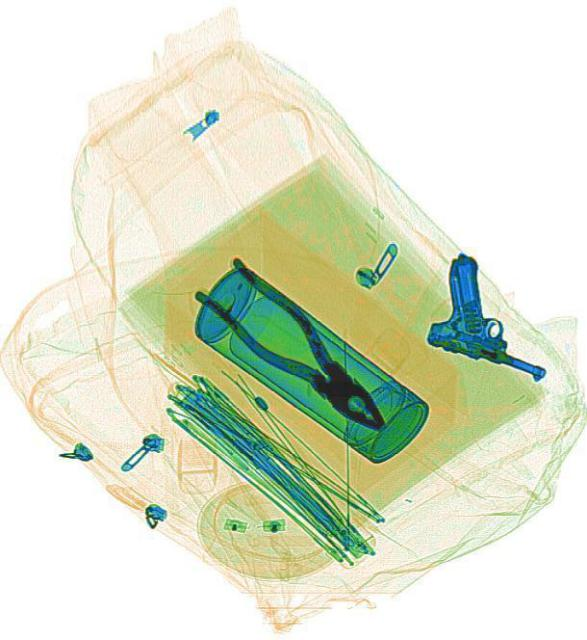Gun: (421, 247, 572, 381)
Pliers: (190, 246, 405, 449)
